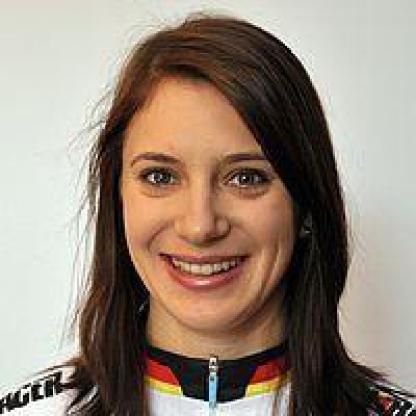long-hair: (57, 333, 374, 389)
